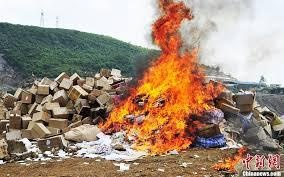fire: (97, 0, 231, 161), (211, 147, 249, 170)
